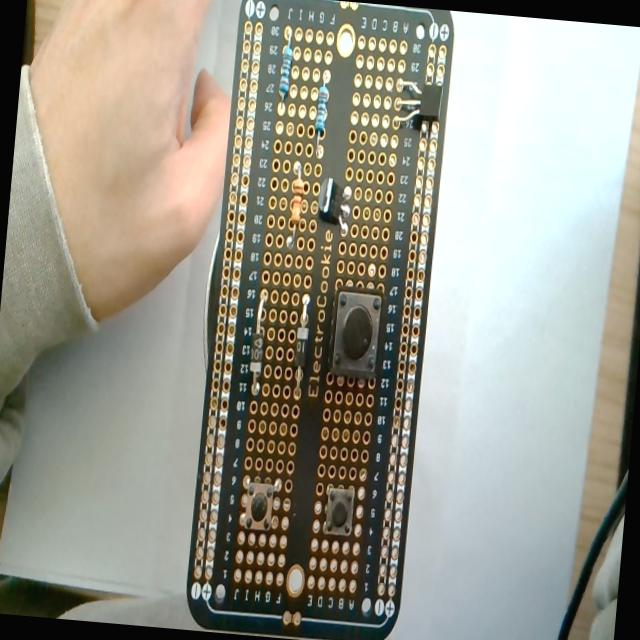diode: (247, 292, 268, 395), (292, 294, 312, 396)
resistor: (284, 161, 308, 249), (310, 78, 330, 160), (276, 37, 295, 102)
switch: (328, 288, 382, 381), (240, 477, 278, 532), (322, 484, 354, 538)
transistor: (386, 72, 444, 145), (314, 174, 358, 238)
